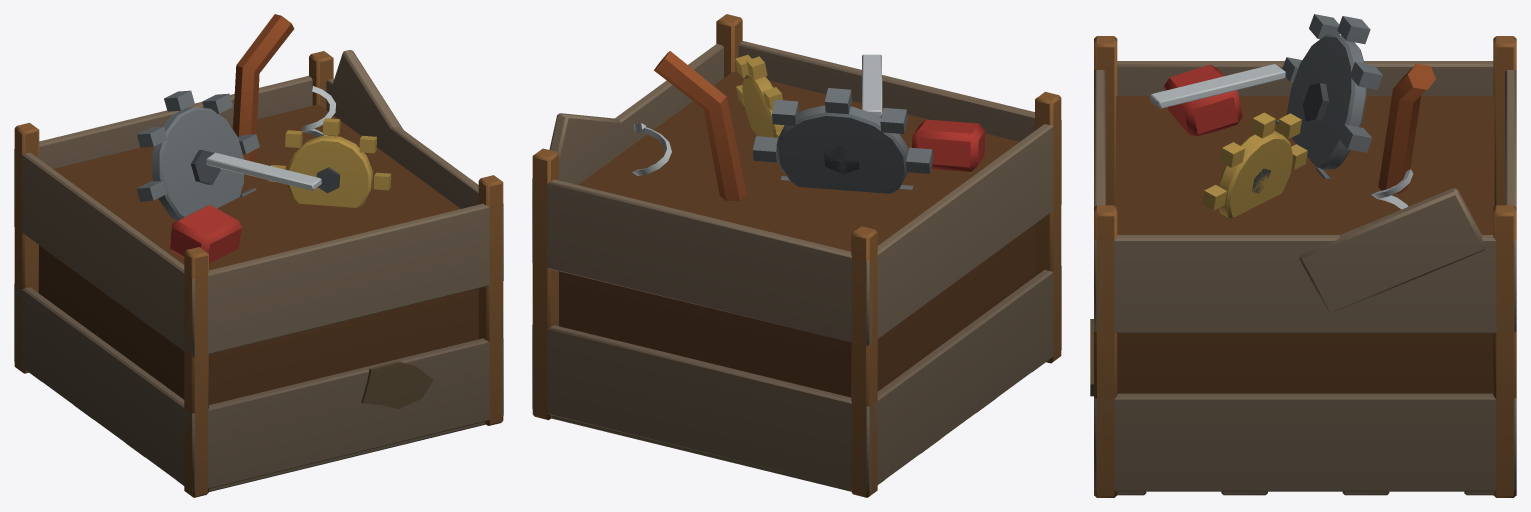
Rendered from 186_caisse_pieces.fbx.
The picture shows the model from 3 angles, left to right: view 1: azimuth 30°, elevation 25°; view 2: azimuth 150°, elevation 25°; view 3: azimuth 270°, elevation 25°; orthographic projection. The views are drawn at different scales.
Visible parts, largest first — view 1: Caisse; view 2: Caisse; view 3: Caisse.
Part boxes in pixels (<box>): Caisse: <box>14,14,503,497</box>; Caisse: <box>532,14,1061,497</box>; Caisse: <box>1090,14,1516,497</box>.
Bounding box in the file's own units: 0.84 × 0.84 × 0.84.
1 material, 1 textured.
